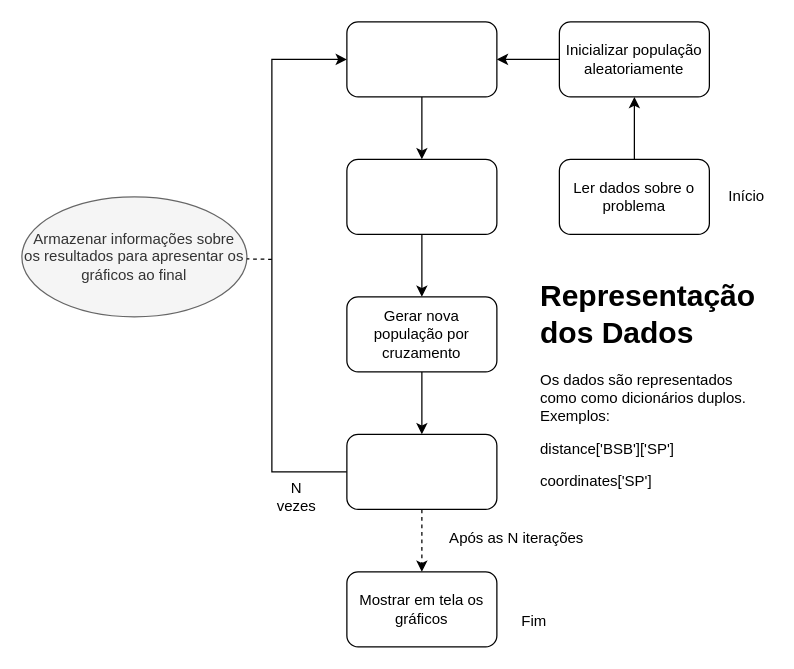
Image size: 794x669. Some labels were removed from this diagram. Each missing label, with the centre of its shape:
Cálculo da adequação de cada indivíduo: point 421,59
Executar mutações: point 421,471
Formar casais utilizando as adequações como peso: point 421,196
